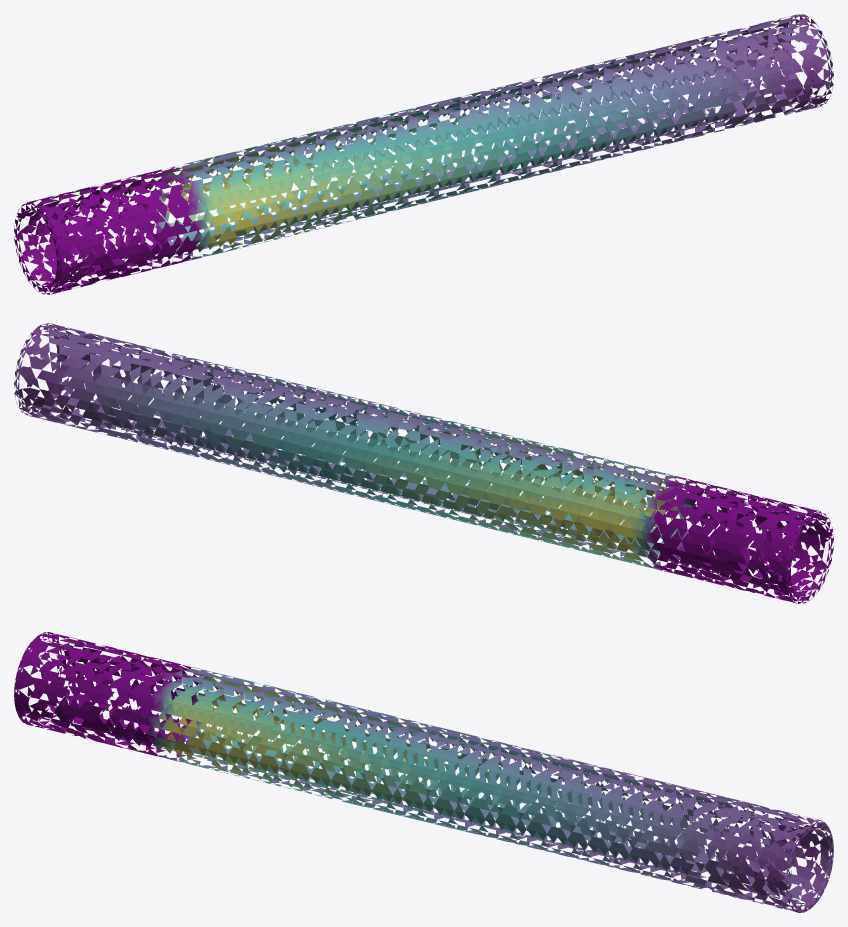
File: tube_root_bending.glb
3 views of the same model, one above another, from view 1: azimuth 30°, elevation 25°; view 2: azimuth 150°, elevation 25°; view 3: azimuth 330°, elevation 25° (orthographic).
Visible parts, largest first — view 1: geometry_0; view 2: geometry_0; view 3: geometry_0.
Part boxes in pixels (x1,y1,x2,y2): geometry_0: [14, 14, 833, 294]; geometry_0: [14, 323, 833, 603]; geometry_0: [14, 632, 833, 912].
Bounding box in the file's own units: 150 × 16 × 16.
